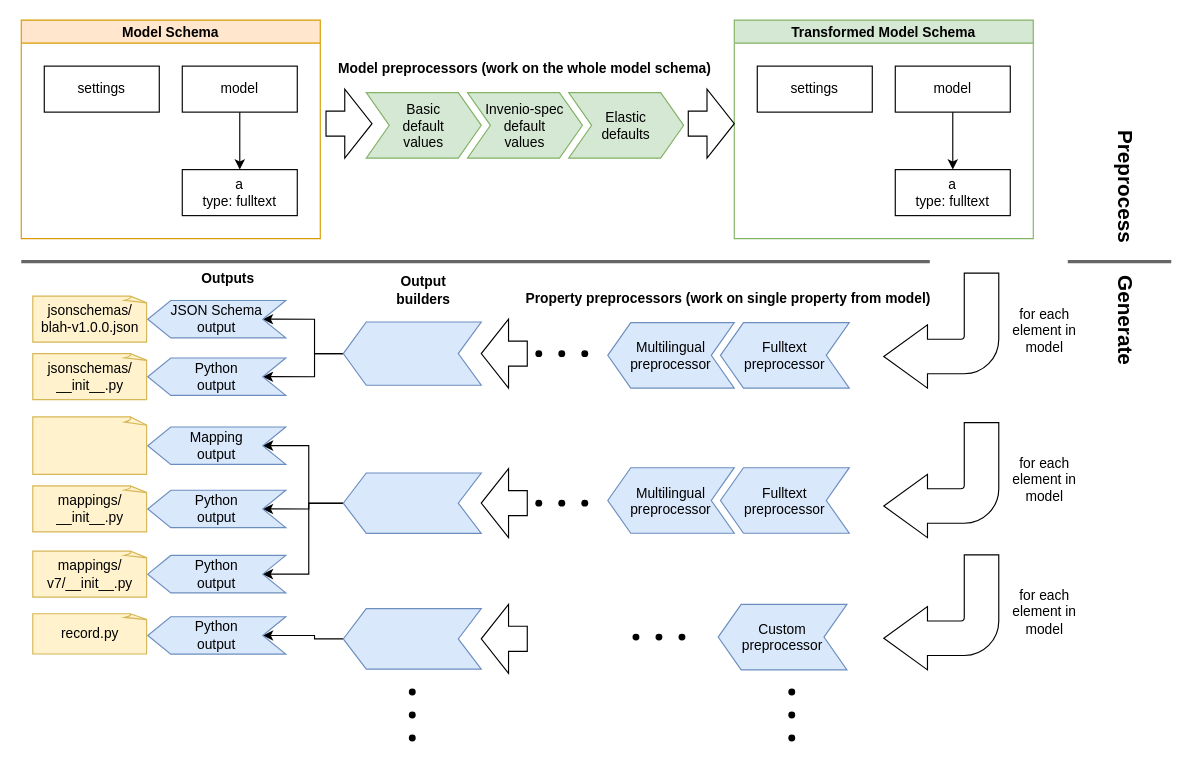
Image size: 1194x782. Some labels were removed from this diagram. Here are the shapes that lost their labels. From the top down, the box of each, then its label:
(342, 321, 481, 385): JSON Schema output builder
(32, 416, 148, 474): mappings/ v7/ blah-v1.0.0.json
(342, 472, 481, 533): Mapping output builder
(342, 608, 481, 669): Invenio record output builder
